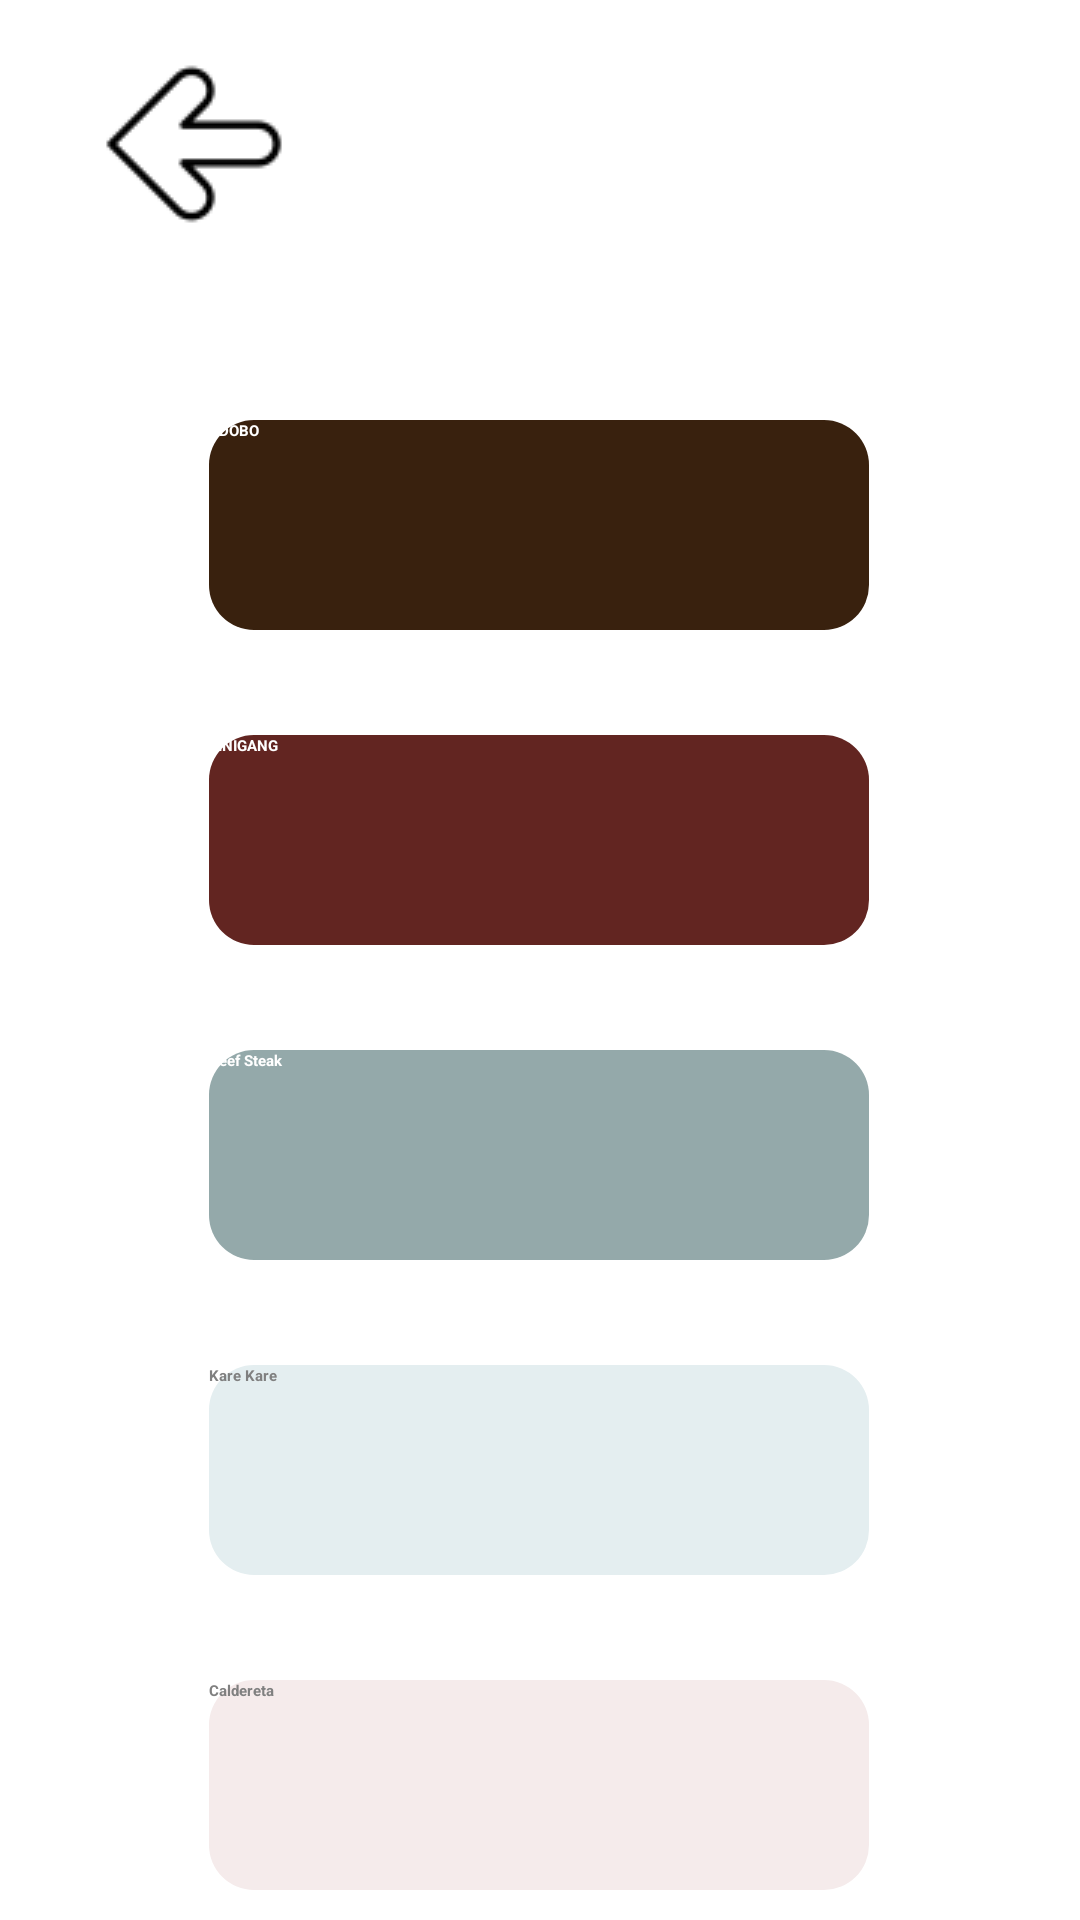

Screen size 1080*1920. Icon name, then its box in pixels as (x1, y1, x2, y2):
back: (106, 65, 282, 223)
